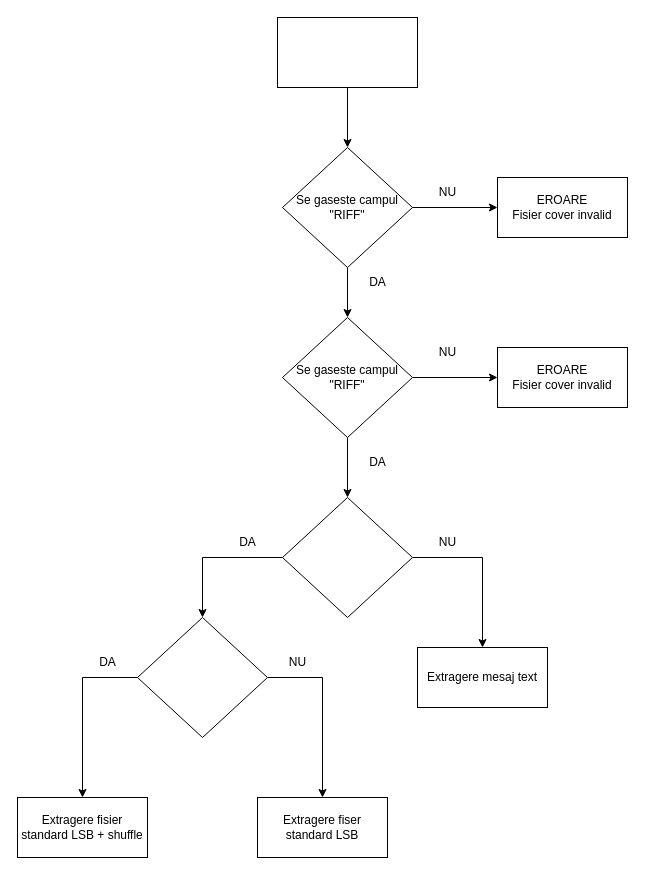
The diagram is 645 pixels wide and 875 high, and some of its shapes have lost their labels. The box of each missing label's shape, as (x1, y1, x2, y2) in pixels:
Extragere mesaj/fisier din Audio: (276, 16, 418, 88)
Foloseste cheie shuffle: (136, 616, 268, 738)
Se gaseste campul "STGF": (282, 496, 412, 618)
